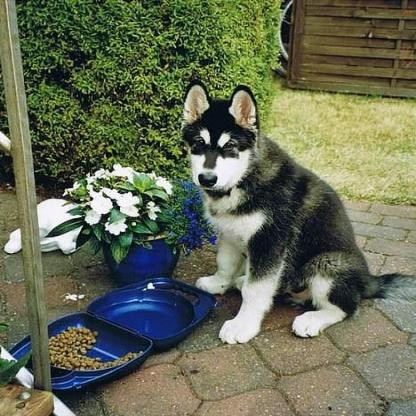malamute: (180, 79, 414, 344)
